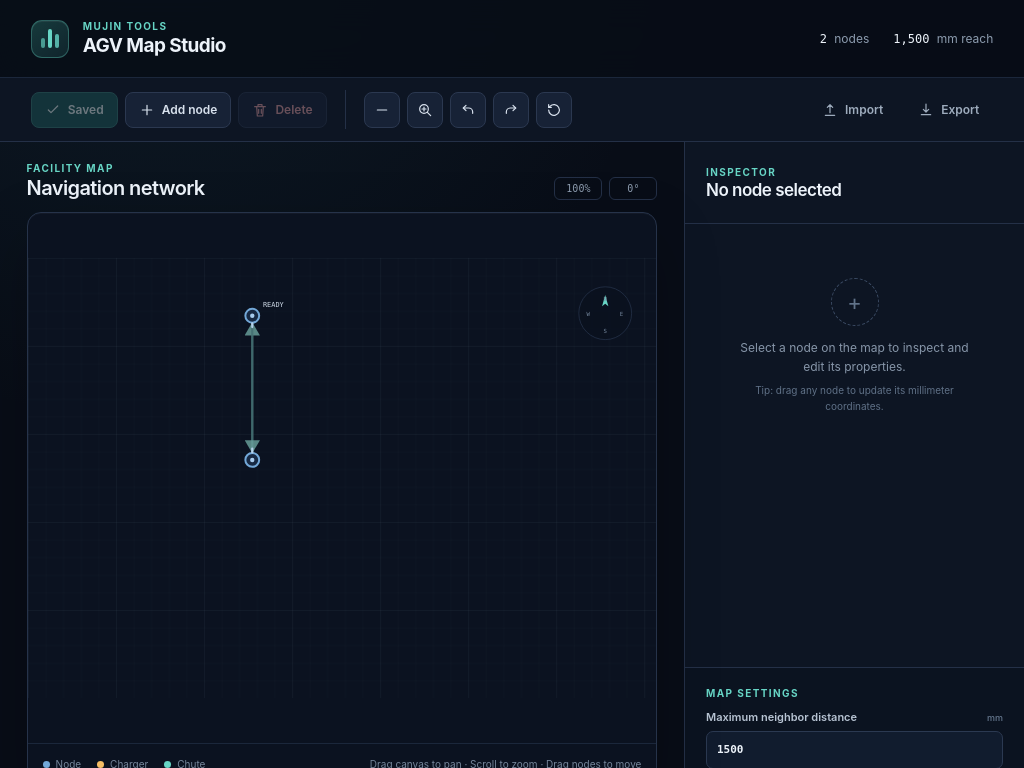
Test: App › edits map settings and saves through the API
The image size is (1024, 768).
Replace the text in the number field labelled "Maximum neighbor distance" with "2200". click: (854,750)
box: [706,731,1003,767]
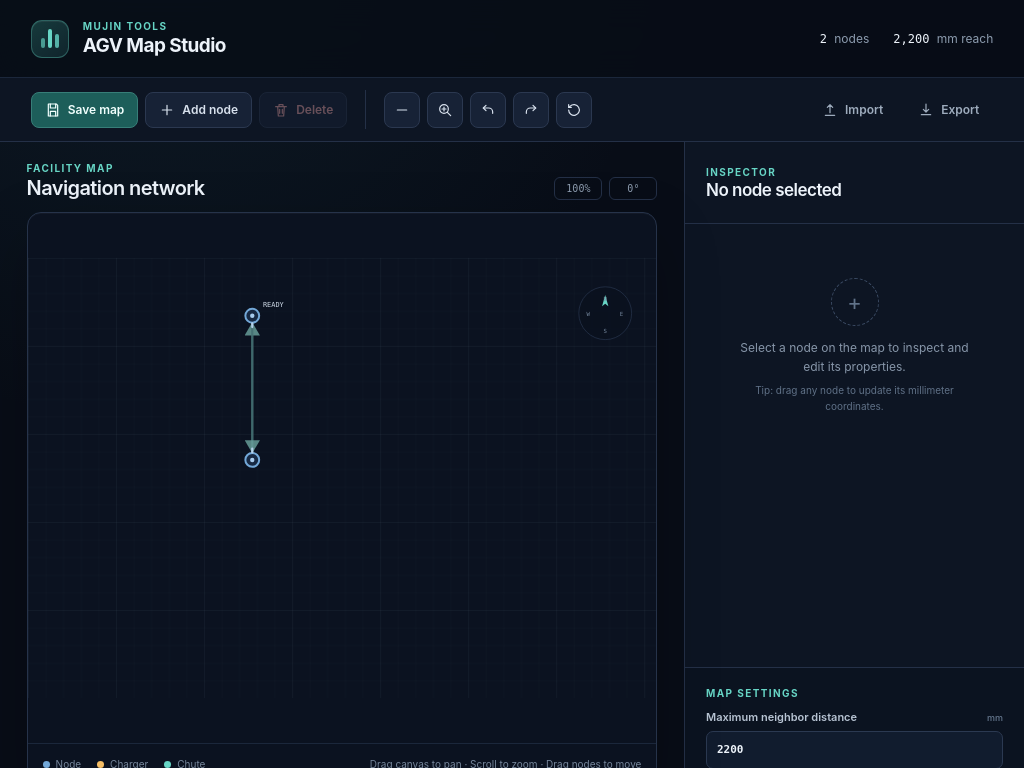
Click the button "Save map". click: (84,110)
box: [31,92,138,128]
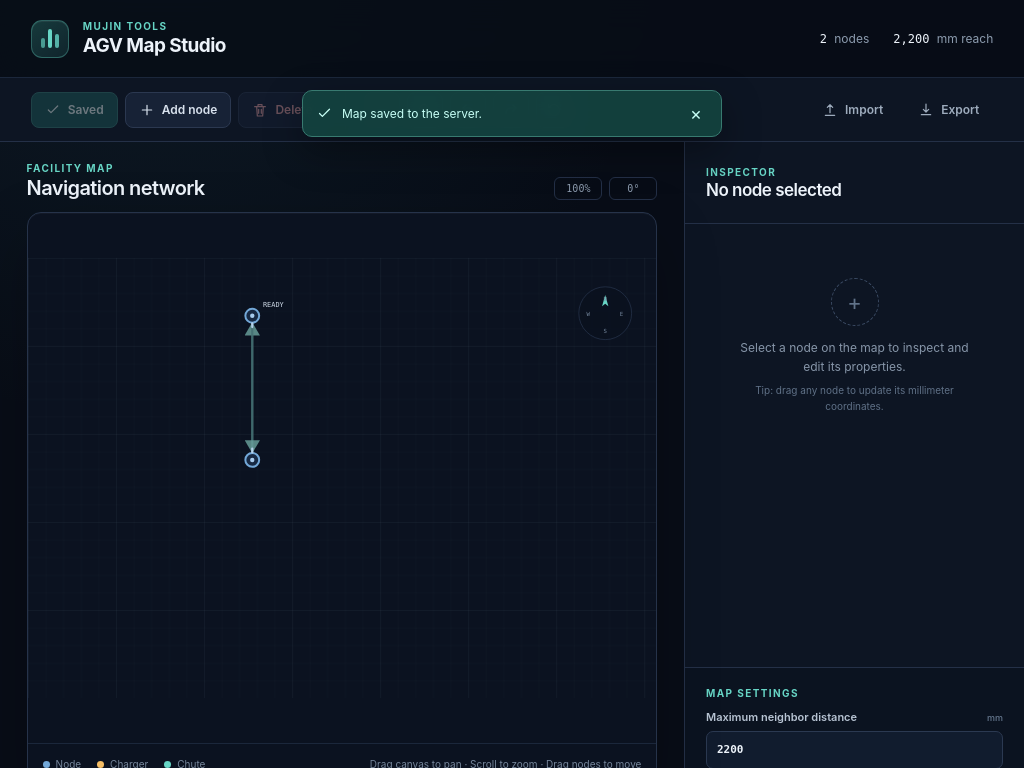
Result: the text "Map saved to the server." is shown at [342,106,482,121]
